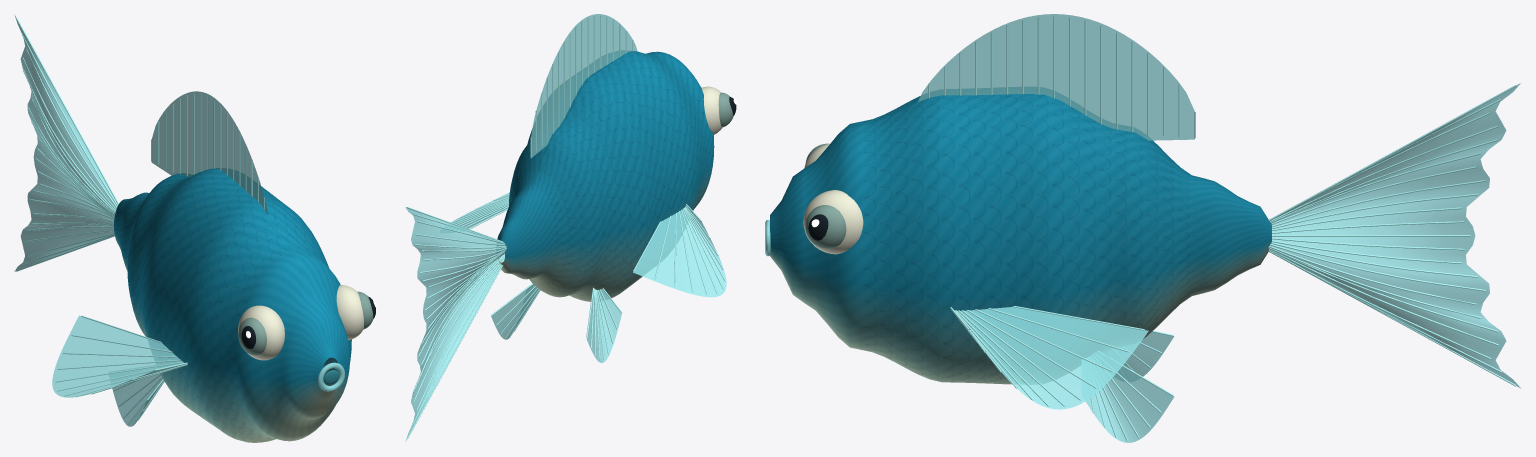
The model's file is azure-v2.glb.
3 renders of one model, left to right at view 1: azimuth 30°, elevation 25°; view 2: azimuth 150°, elevation 25°; view 3: azimuth 270°, elevation 25°, orthographic. The views are drawn at different scales.
Visible parts, largest first — view 1: Body, TailPivot membrane, DorsalPivot membrane, PectoralPivot-1 membrane, VentralPivot-1 membrane, Eye sclera, Eye sclera.001, Iris, Mouth rim, TailPivot ray.022, TailPivot ray.021; view 2: Body, TailPivot membrane, DorsalPivot membrane, PectoralPivot-1 membrane, VentralPivot-1 membrane, VentralPivot1 membrane, PectoralPivot1 membrane, Eye sclera, Iris, TailPivot ray, TailPivot ray.001; view 3: Body, TailPivot membrane, DorsalPivot membrane, PectoralPivot1 membrane, VentralPivot1 membrane, Eye sclera.001, VentralPivot-1 membrane, Iris.001.
Part boxes in pixels (left/top/right/bottom): Body: left=114, top=168, right=351, bottom=442; TailPivot membrane: left=14, top=15, right=117, bottom=271; DorsalPivot membrane: left=151, top=91, right=268, bottom=215; PectoralPivot-1 membrane: left=52, top=315, right=183, bottom=397; VentralPivot-1 membrane: left=112, top=374, right=163, bottom=426; Eye sclera: left=238, top=305, right=284, bottom=360; Eye sclera.001: left=336, top=285, right=363, bottom=340; Iris: left=238, top=317, right=266, bottom=355; Mouth rim: left=318, top=362, right=344, bottom=391; TailPivot ray.022: left=16, top=18, right=118, bottom=204; TailPivot ray.021: left=22, top=34, right=117, bottom=206; Body: left=497, top=51, right=714, bottom=301; TailPivot membrane: left=405, top=207, right=505, bottom=441; DorsalPivot membrane: left=531, top=14, right=637, bottom=158; PectoralPivot-1 membrane: left=633, top=205, right=726, bottom=297; VentralPivot-1 membrane: left=586, top=289, right=621, bottom=362; VentralPivot1 membrane: left=491, top=284, right=538, bottom=339; PectoralPivot1 membrane: left=452, top=192, right=509, bottom=228; Eye sclera: left=701, top=86, right=721, bottom=134; Iris: left=718, top=92, right=733, bottom=127; TailPivot ray: left=407, top=265, right=502, bottom=439; TailPivot ray.001: left=412, top=258, right=504, bottom=424; Body: left=770, top=87, right=1271, bottom=384; TailPivot membrane: left=1270, top=83, right=1520, bottom=388; DorsalPivot membrane: left=918, top=14, right=1194, bottom=140; PectoralPivot1 membrane: left=958, top=307, right=1148, bottom=409; VentralPivot1 membrane: left=1085, top=366, right=1174, bottom=442; Eye sclera.001: left=803, top=190, right=863, bottom=254; VentralPivot-1 membrane: left=1123, top=332, right=1174, bottom=376; Iris.001: left=805, top=205, right=846, bottom=248.
Size of the model in its own units: 1.63 by 1.73 by 2.95.
Materials: 9 (1 with a texture image).
